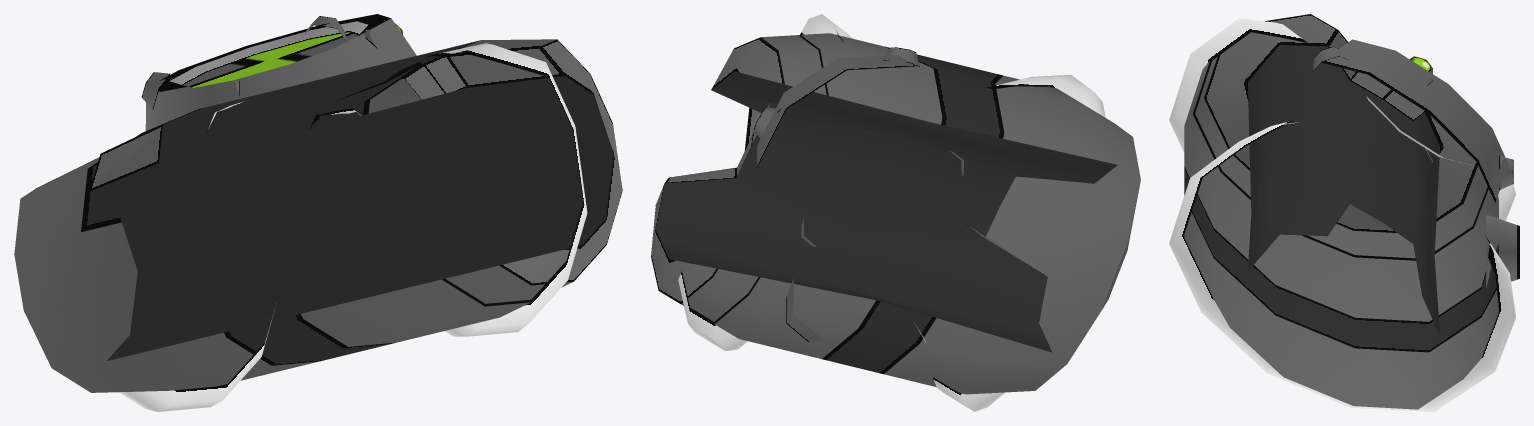
File: ps2_save-icons_ben10protectorofearth.glb
3 views of the same model, side by side, from view 1: azimuth 30°, elevation 25°; view 2: azimuth 150°, elevation 25°; view 3: azimuth 270°, elevation 25° (orthographic). The views are drawn at different scales.
Visible parts, largest first — view 1: list.ico; view 2: list.ico; view 3: list.ico.
Boxes of the visible parts, box(x1,y1,x2,y2) form: list.ico: box(14, 14, 622, 411); list.ico: box(651, 14, 1140, 411); list.ico: box(1169, 14, 1519, 411).
Size of the model in its own units: 4.84 by 3.58 by 3.78.
1 material, 1 textured.
